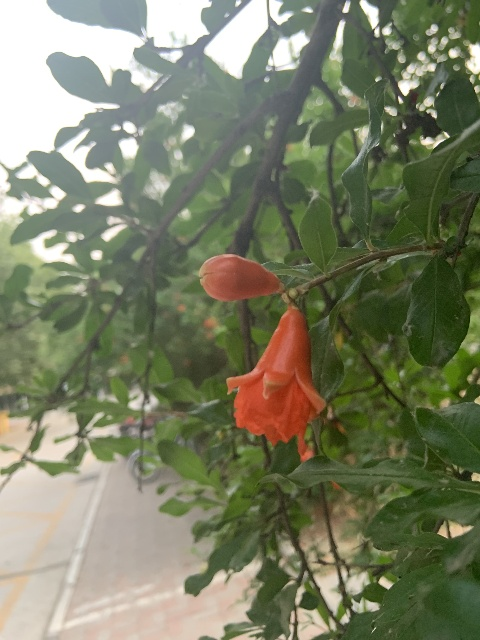bud: (198, 253, 282, 301)
flower: (226, 308, 325, 454)
